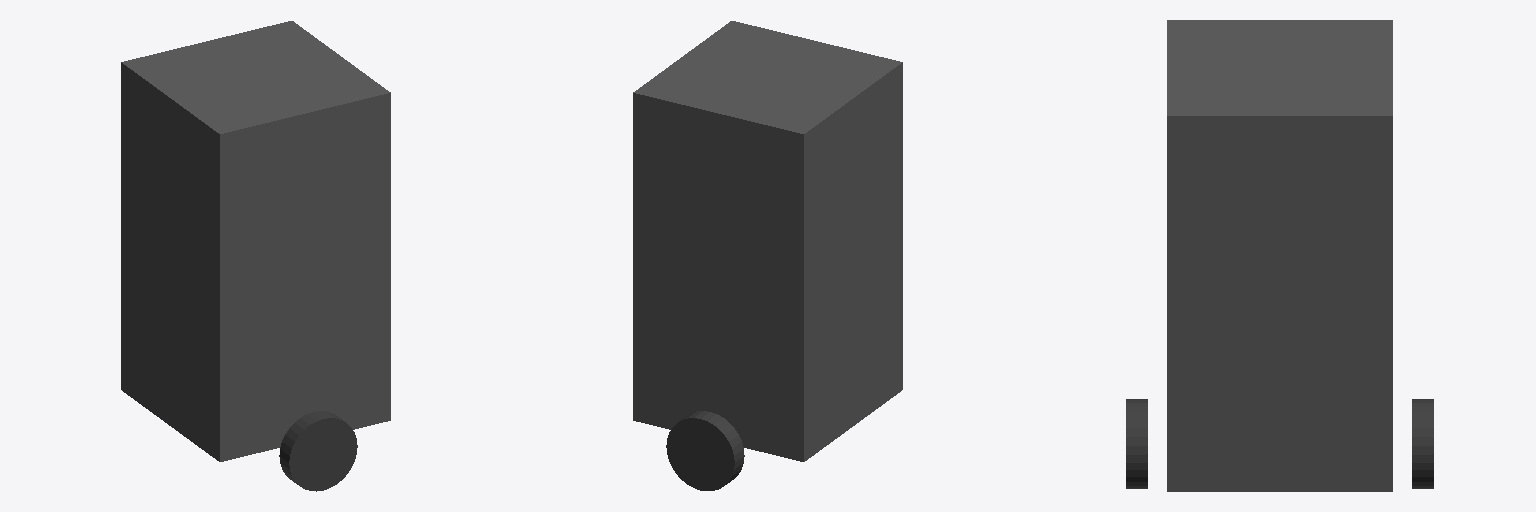
The robot description file, URDF, robot "turtlebot":
<?xml version="1.0" ?>
<robot name="turtlebot">

  <link name="base_footprint"/>

  <!-- base_joint z = wheel_radius so the robot sits on the ground -->
  <joint name="base_joint" type="fixed">
    <parent link="base_footprint"/>
    <child link="base_link"/>
    <origin xyz="0.0 0.0 0.12" rpy="0 0 0"/>
  </joint>

  <!-- Body: 0.6m wide, 0.6m deep, 1.1m tall — top at ~1.22m from ground -->
  <link name="base_link">
    <visual>
      <origin xyz="0 0 0.55" rpy="0 0 0"/>
      <geometry>
        <box size="0.6 0.6 1.1"/>
      </geometry>
      <material name="light_black">
        <color rgba="0.4 0.4 0.4 1.0"/>
      </material>
    </visual>
    <collision>
      <origin xyz="0 0 0.55" rpy="0 0 0"/>
      <geometry>
        <box size="0.6 0.6 1.1"/>
      </geometry>
    </collision>
    <inertial>
      <origin xyz="0 0 0.55" rpy="0 0 0"/>
      <mass value="20.0"/>
      <!-- box inertia: ixx=m/12*(y²+z²), iyy=m/12*(x²+z²), izz=m/12*(x²+y²) -->
      <inertia ixx="2.617" ixy="0.0" ixz="0.0"
               iyy="2.617" iyz="0.0" izz="1.200"/>
    </inertial>
  </link>

  <!-- wheel z = wheel_radius - base_joint_z = 0.12 - 0.12 = 0.0 -->
  <joint name="wheel_left_joint" type="continuous">
    <parent link="base_link"/>
    <child link="wheel_left_link"/>
    <origin xyz="0.0 0.38 0.0" rpy="-1.57 0 0"/>
    <axis xyz="0 0 1"/>
  </joint>

  <link name="wheel_left_link">
    <visual>
      <origin xyz="0 0 0" rpy="0 0 0"/>
      <geometry>
        <cylinder length="0.06" radius="0.12"/>
      </geometry>
      <material name="dark">
        <color rgba="0.3 0.3 0.3 1.0"/>
      </material>
    </visual>
    <collision>
      <origin xyz="0 0 0" rpy="0 0 0"/>
      <geometry>
        <cylinder length="0.06" radius="0.12"/>
      </geometry>
    </collision>
    <inertial>
      <origin xyz="0 0 0"/>
      <mass value="0.5"/>
      <inertia ixx="1.950e-03" ixy="0.0" ixz="0.0"
               iyy="1.950e-03" iyz="0.0" izz="3.600e-03"/>
    </inertial>
  </link>

  <joint name="wheel_right_joint" type="continuous">
    <parent link="base_link"/>
    <child link="wheel_right_link"/>
    <origin xyz="0.0 -0.38 0.0" rpy="-1.57 0 0"/>
    <axis xyz="0 0 1"/>
  </joint>

  <link name="wheel_right_link">
    <visual>
      <origin xyz="0 0 0" rpy="0 0 0"/>
      <geometry>
        <cylinder length="0.06" radius="0.12"/>
      </geometry>
      <material name="dark"/>
    </visual>
    <collision>
      <origin xyz="0 0 0" rpy="0 0 0"/>
      <geometry>
        <cylinder length="0.06" radius="0.12"/>
      </geometry>
    </collision>
    <inertial>
      <origin xyz="0 0 0"/>
      <mass value="0.5"/>
      <inertia ixx="1.950e-03" ixy="0.0" ixz="0.0"
               iyy="1.950e-03" iyz="0.0" izz="3.600e-03"/>
    </inertial>
  </link>

  <!-- caster sphere center at z = sphere_radius - base_joint_z = 0.02 - 0.12 = -0.10 -->
  <joint name="caster_back_joint" type="fixed">
    <parent link="base_link"/>
    <child link="caster_back_link"/>
    <origin xyz="-0.28 0 -0.10" rpy="0 0 0"/>
  </joint>

  <link name="caster_back_link">
    <collision>
      <origin xyz="0 0 0" rpy="0 0 0"/>
      <geometry>
        <sphere radius="0.02"/>
      </geometry>
    </collision>
    <inertial>
      <origin xyz="0 0 0"/>
      <mass value="0.05"/>
      <inertia ixx="1.0e-04" ixy="0.0" ixz="0.0" iyy="1.0e-04" iyz="0.0" izz="1.0e-04"/>
    </inertial>
  </link>

  <!-- Gazebo Harmonic: diff drive plugin -->
  <gazebo>
    <plugin filename="gz-sim-diff-drive-system" name="gz::sim::systems::DiffDrive">
      <left_joint>wheel_left_joint</left_joint>
      <right_joint>wheel_right_joint</right_joint>
      <wheel_separation>0.76</wheel_separation>
      <wheel_radius>0.12</wheel_radius>
      <odom_publish_frequency>30</odom_publish_frequency>
      <topic>/model/turtlebot/cmd_vel</topic>
      <odom_topic>/model/turtlebot/odometry</odom_topic>
      <tf_topic>/model/turtlebot/tf</tf_topic>
      <frame_id>turtlebot/odom</frame_id>
      <child_frame_id>turtlebot/base_footprint</child_frame_id>
    </plugin>
  </gazebo>

  <!-- Gazebo Harmonic: joint state publisher -->
  <gazebo>
    <plugin filename="gz-sim-joint-state-publisher-system" name="gz::sim::systems::JointStatePublisher">
      <topic>/model/turtlebot/joint_states</topic>
      <joint_name>wheel_left_joint</joint_name>
      <joint_name>wheel_right_joint</joint_name>
    </plugin>
  </gazebo>

  <!-- Ground-truth world-frame pose (reads physics ECM, not wheel integration) -->
  <gazebo>
    <plugin filename="gz-sim-odometry-publisher-system" name="gz::sim::systems::OdometryPublisher">
      <odom_frame>world</odom_frame>
      <robot_base_frame>base_footprint</robot_base_frame>
      <topic>/model/turtlebot/world_odometry</topic>
      <odom_publish_frequency>30</odom_publish_frequency>
    </plugin>
  </gazebo>

</robot>

--- Render facts (derived) ---
The picture shows the robot from 3 angles, left to right: view 1: azimuth 30°, elevation 25°; view 2: azimuth 150°, elevation 25°; view 3: azimuth 270°, elevation 25°; orthographic projection.
Model turtlebot with 5 links and 4 joints (2 continuous, 2 fixed), rooted at base_footprint, posed every joint at zero.
Visible links, largest first — view 1: base_link, wheel_right_link; view 2: base_link, wheel_left_link; view 3: base_link, wheel_left_link, wheel_right_link.
Link boxes in pixels (x1=…): base_link: x1=121, y1=21, x2=390, y2=461; wheel_right_link: x1=279, y1=411, x2=357, y2=491; base_link: x1=633, y1=21, x2=902, y2=461; wheel_left_link: x1=666, y1=411, x2=744, y2=490; base_link: x1=1167, y1=20, x2=1392, y2=491; wheel_left_link: x1=1412, y1=399, x2=1433, y2=488; wheel_right_link: x1=1126, y1=399, x2=1147, y2=488.
Bounding box of the posed robot: 0.6 × 0.8202 × 1.22 m (x, y, z).
Geometry: primitives only (box / cylinder / sphere), no mesh files.
